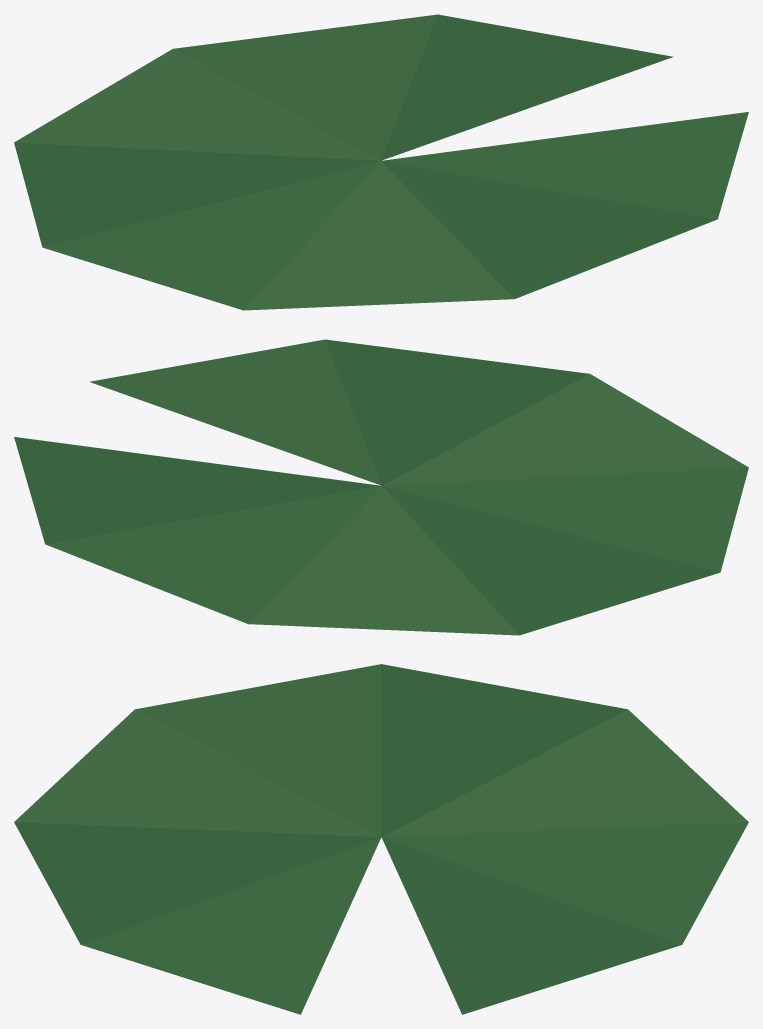
File: lilypad_round_lod1.glb
3 views of the same model, one above another, from view 1: azimuth 30°, elevation 25°; view 2: azimuth 150°, elevation 25°; view 3: azimuth 270°, elevation 25° (orthographic). The views are drawn at different scales.
Visible parts, largest first — view 1: lilypad_round_lod1; view 2: lilypad_round_lod1; view 3: lilypad_round_lod1.
Boxes of the visible parts, x1,y1,x2,y2 form: lilypad_round_lod1: [14, 14, 748, 310]; lilypad_round_lod1: [14, 339, 748, 635]; lilypad_round_lod1: [14, 664, 748, 1014].
Size of the model in its own units: 0.8496 by 0.005 by 0.7522.
